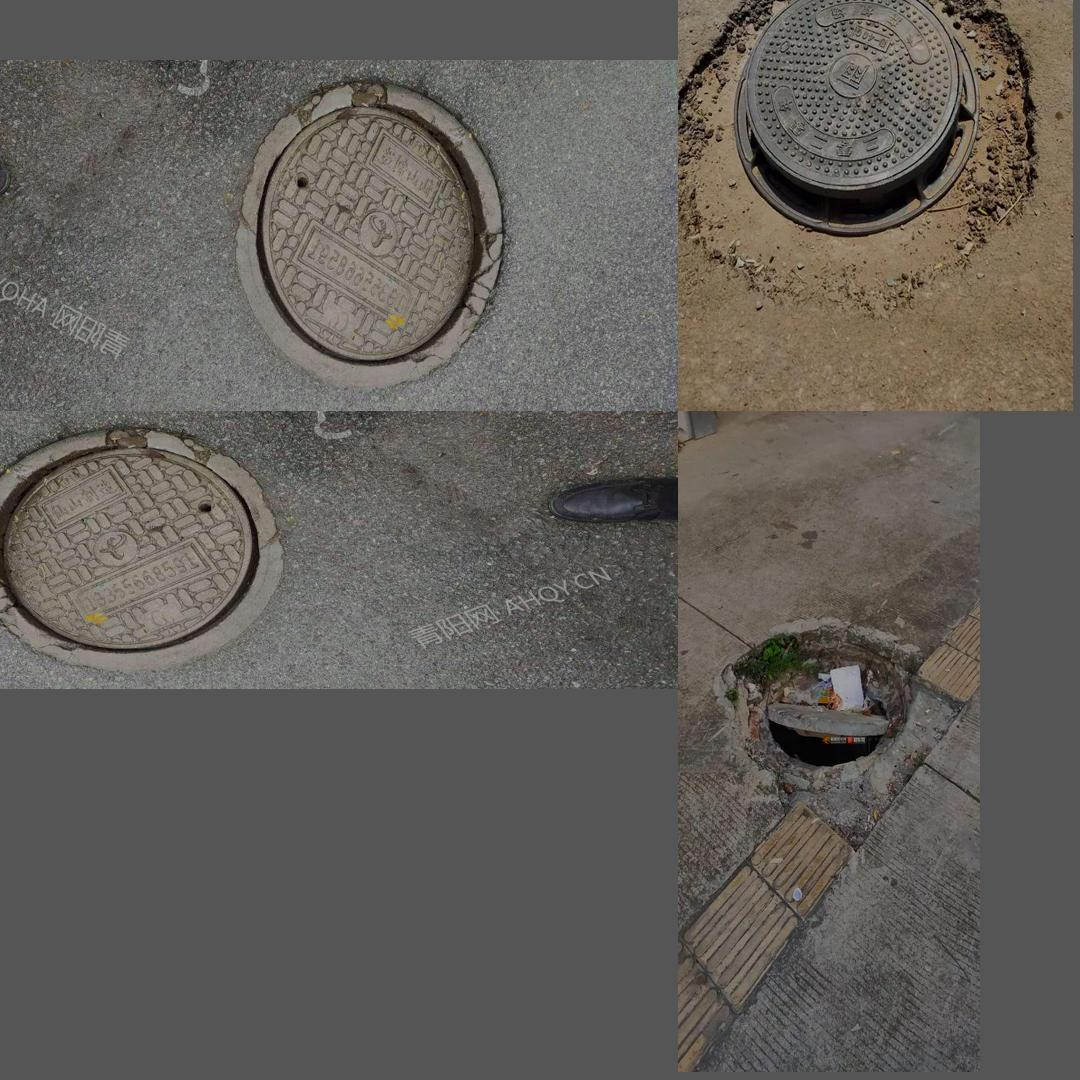circle: (685, 0, 1033, 308), (218, 79, 540, 386), (0, 422, 309, 678), (704, 611, 951, 835)
